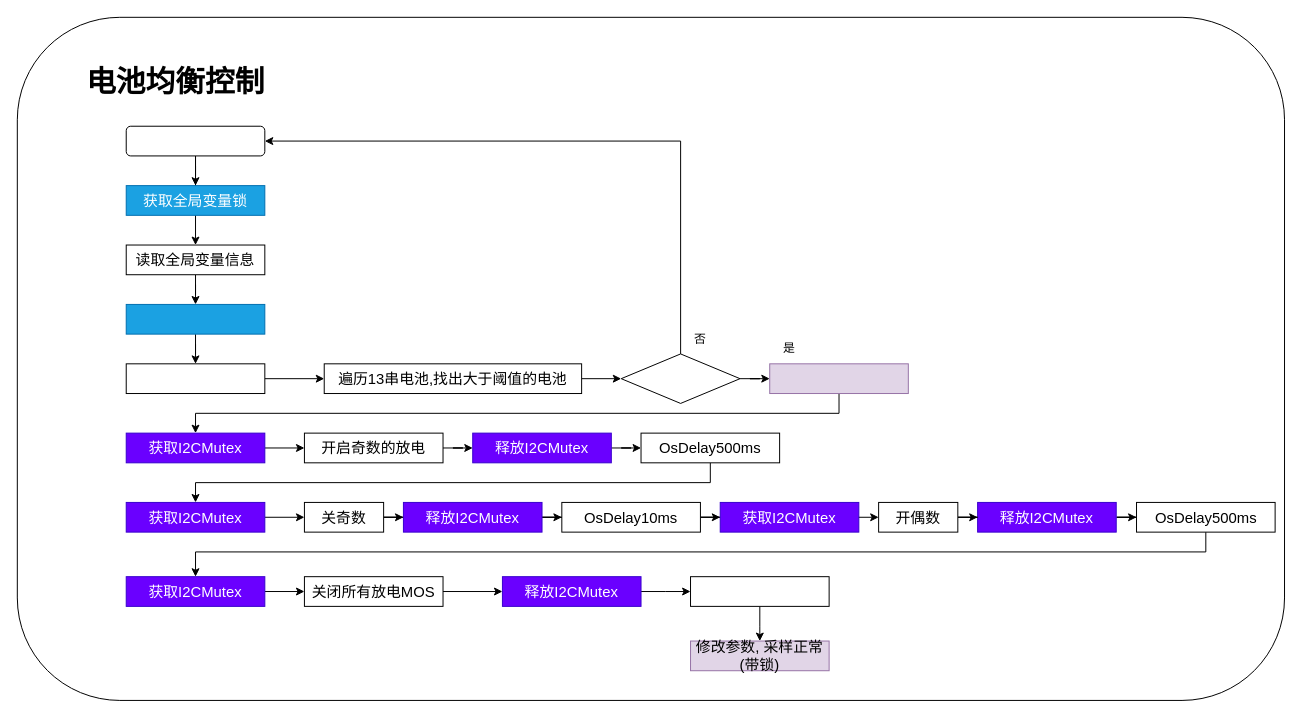
Image size: 1302x718. Some labels were removed from this diagram. The centre of each missing label's shape, as x and y in pixels:
"OsDelay250ms" goes at point 759,591.
"OsDelay750ms" goes at point 195,140.
"修改参数,采样禁止(带锁)" goes at point 838,378.
"存在?" goes at point 680,378.
"获取Vmin,均衡阈值" goes at point 195,378.
"释放全局变量锁" goes at point 195,318.
